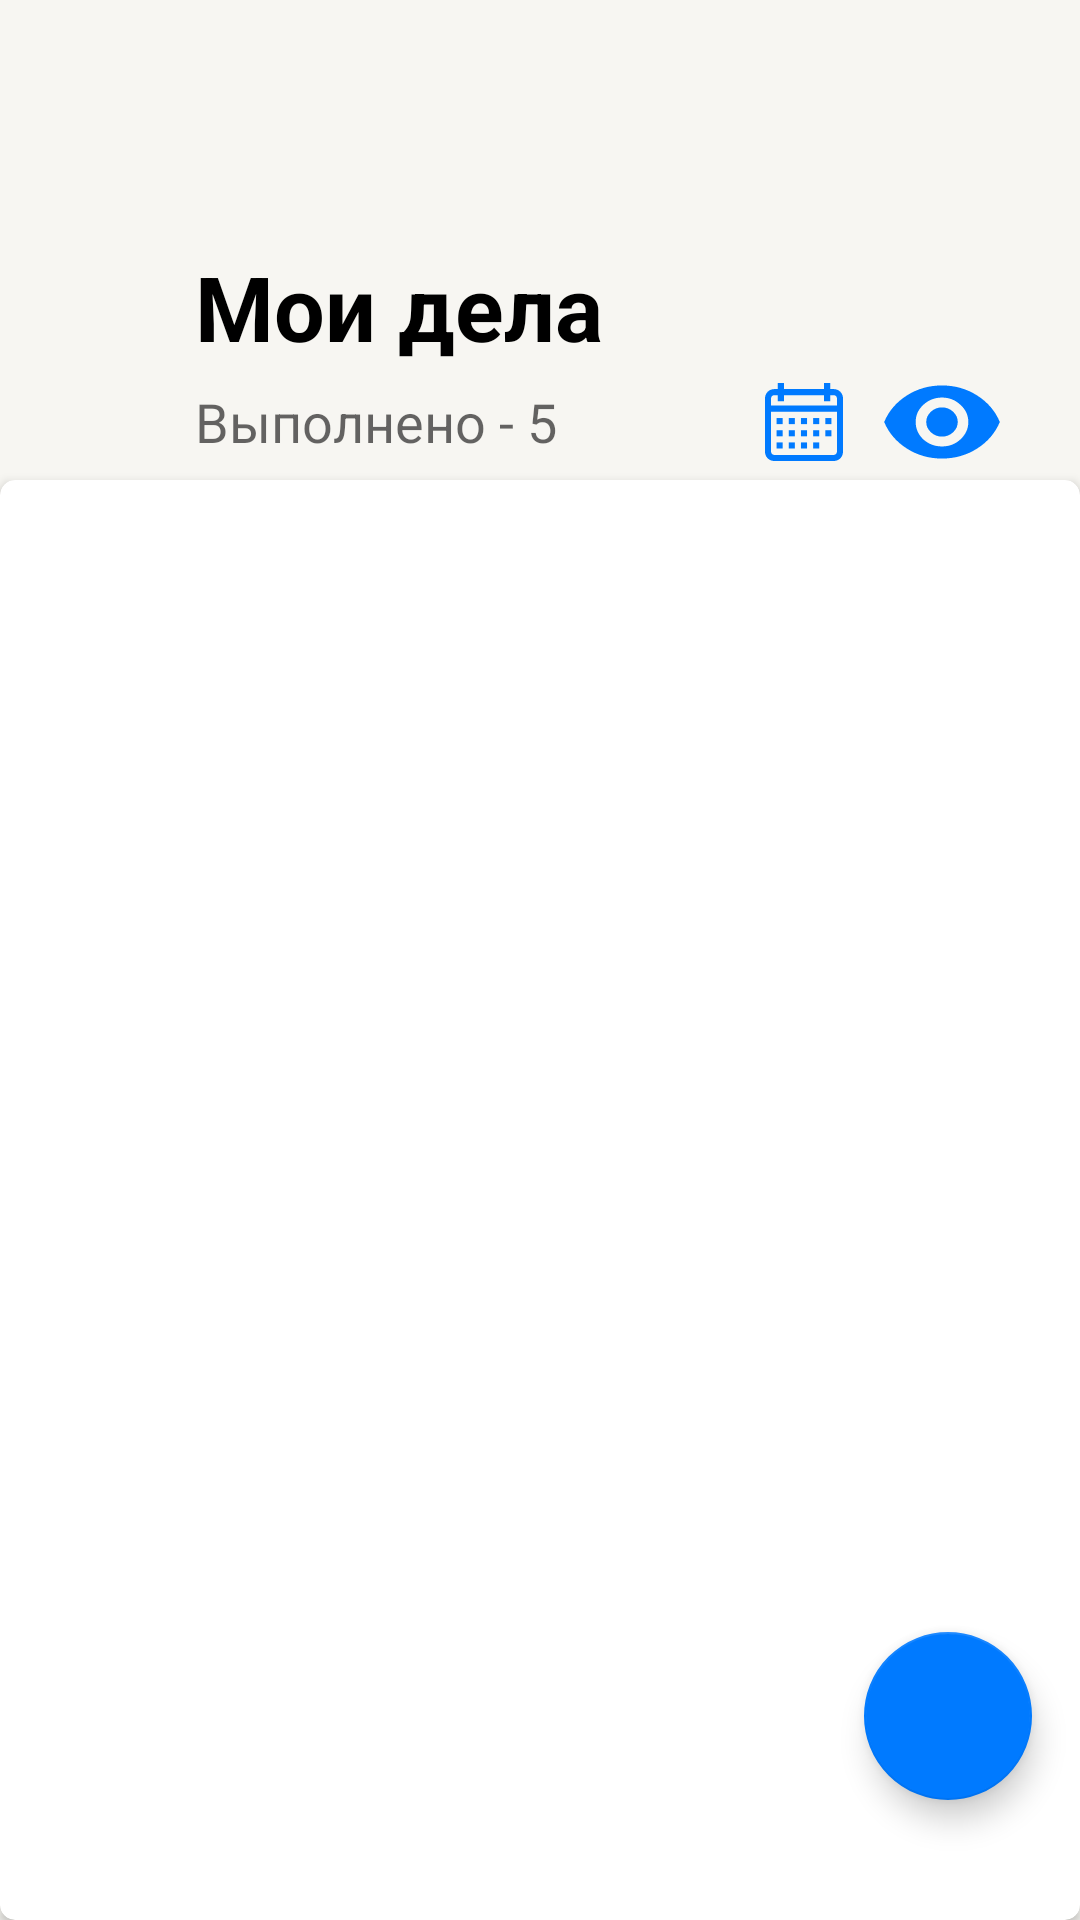

Where to tap for icons on this 1080 x 1920 app screen, as point (x, y):
calendar: point (804, 422)
visibility: point (942, 422)
